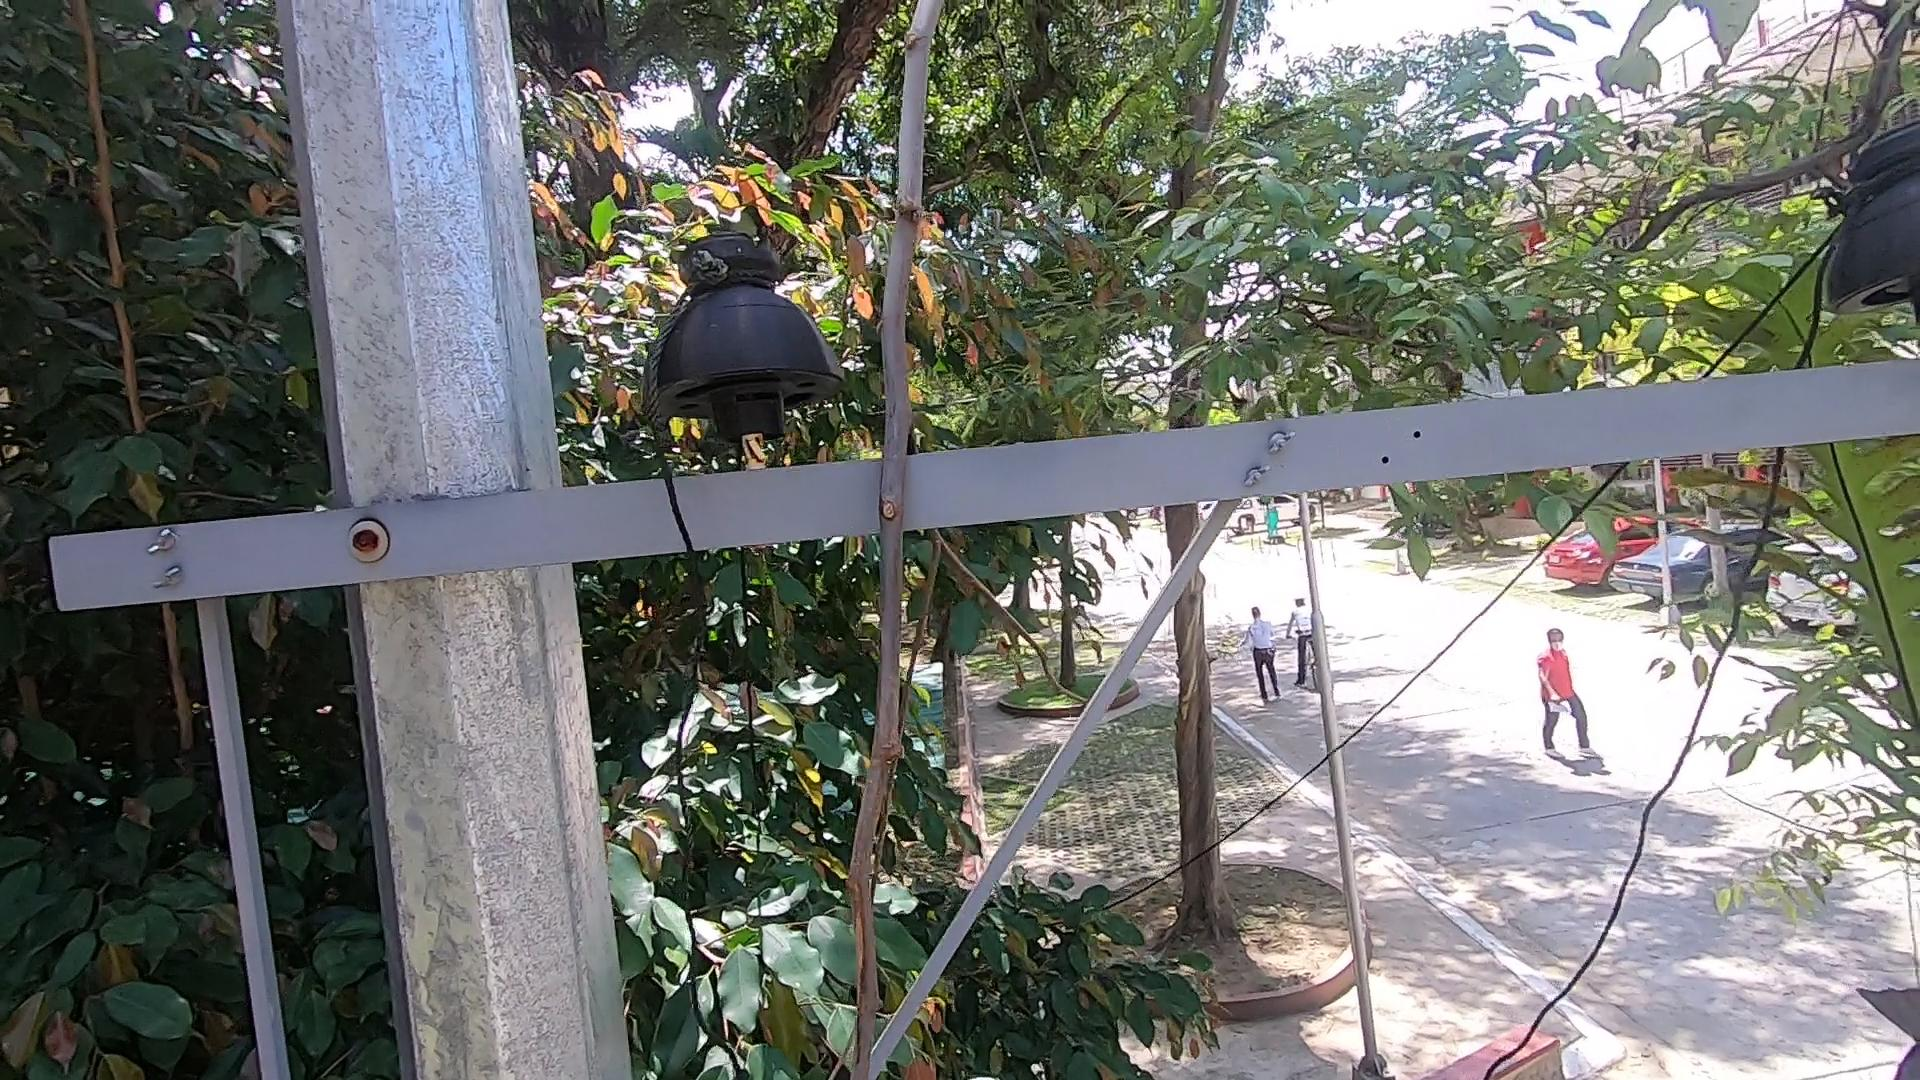branch with leaves: (744, 978, 965, 1080)
tree branch: (749, 1, 963, 1080)
